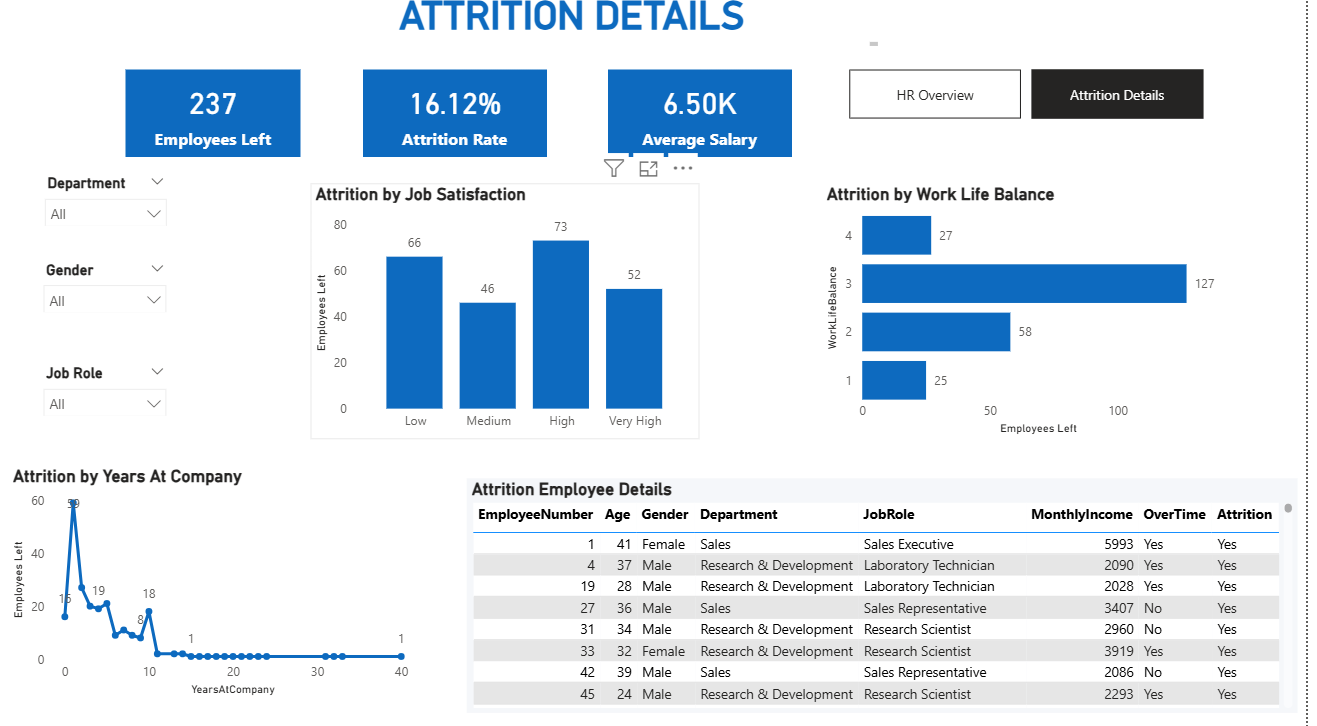

This screenshot's page, from the dashboard's own definition file:
{"tool":"powerbi","page":{"name":"Attrition Details","canvas":[1280,720],"ordinal":1},"visuals":[{"type":"textbox","title":"ATTRITION DETAILS","box":[256.8,0,609,57.5],"z":0},{"type":"card","fields":{"Values":["WA_Fn-UseC_-HR-Employee-Attrition.Employees Left"]},"box":[124.7,75.8,171.2,85.6],"z":1000},{"type":"card","fields":{"Values":["WA_Fn-UseC_-HR-Employee-Attrition.Attrition Rate"]},"box":[356.5,75.8,179.8,85.6],"z":2000},{"type":"card","fields":{"Values":["WA_Fn-UseC_-HR-Employee-Attrition.Average Salary"]},"box":[596.7,75.8,179.8,85.6],"z":3000},{"type":"clusteredColumnChart","title":"Attrition  by Job Satisfaction","fields":{"Y":["WA_Fn-UseC_-HR-Employee-Attrition.Employees Left"],"Category":["WA_Fn-UseC_-HR-Employee-Attrition.Job Satisfaction Label"]},"box":[305.7,187.1,380.3,250.7],"z":4000},{"type":"clusteredBarChart","title":"Attrition  by Work Life  Balance","fields":{"Category":["WA_Fn-UseC_-HR-Employee-Attrition.WorkLifeBalance"],"Y":["WA_Fn-UseC_-HR-Employee-Attrition.Employees Left"]},"box":[805.8,187.1,399.9,250.7],"z":5000},{"type":"lineChart","title":"Attrition by Years At Company","fields":{"Category":["WA_Fn-UseC_-HR-Employee-Attrition.YearsAtCompany"],"Y":["WA_Fn-UseC_-HR-Employee-Attrition.Employees Left"]},"box":[9.8,463.5,399.9,229.9],"z":6000},{"type":"tableEx","title":"Attrition Employee Details","fields":{"Values":["WA_Fn-UseC_-HR-Employee-Attrition.EmployeeNumber","WA_Fn-UseC_-HR-Employee-Attrition.Age","WA_Fn-UseC_-HR-Employee-Attrition.Gender","WA_Fn-UseC_-HR-Employee-Attrition.Department","WA_Fn-UseC_-HR-Employee-Attrition.JobRole","WA_Fn-UseC_-HR-Employee-Attrition.MonthlyIncome","WA_Fn-UseC_-HR-Employee-Attrition.OverTime","WA_Fn-UseC_-HR-Employee-Attrition.Attrition"]},"box":[458.6,475.7,813.2,229.9],"z":7000},{"type":"slicer","fields":{"Values":["WA_Fn-UseC_-HR-Employee-Attrition.Department"]},"box":[35.5,173.6,139.4,55],"z":8000},{"type":"slicer","fields":{"Values":["WA_Fn-UseC_-HR-Employee-Attrition.Gender"]},"box":[34.2,258,140.6,55],"z":9000},{"type":"slicer","fields":{"Values":["WA_Fn-UseC_-HR-Employee-Attrition.JobRole"]},"box":[34.2,359.5,140.6,55],"z":10000},{"type":"pageNavigator","box":[832.7,75.8,346.1,48.9],"z":11000}]}

Visuals, with their boxes in screenshot pixels (x1, y1, x2, y2), scaled from the page's 1280x720 canvas onto the 1317x726 screenshot:
"ATTRITION DETAILS" textbox: x1=264 y1=0 x2=891 y2=58
card - WA_Fn-UseC_-HR-Employee-Attrition.Employees Left: x1=128 y1=76 x2=304 y2=163
card - WA_Fn-UseC_-HR-Employee-Attrition.Attrition Rate: x1=367 y1=76 x2=552 y2=163
card - WA_Fn-UseC_-HR-Employee-Attrition.Average Salary: x1=614 y1=76 x2=799 y2=163
"Attrition  by Job Satisfaction" clusteredColumnChart: x1=315 y1=189 x2=706 y2=441
"Attrition  by Work Life  Balance" clusteredBarChart: x1=829 y1=189 x2=1241 y2=441
"Attrition by Years At Company" lineChart: x1=10 y1=467 x2=422 y2=699
"Attrition Employee Details" tableEx: x1=472 y1=480 x2=1309 y2=711
slicer - WA_Fn-UseC_-HR-Employee-Attrition.Department: x1=37 y1=175 x2=180 y2=231
slicer - WA_Fn-UseC_-HR-Employee-Attrition.Gender: x1=35 y1=260 x2=180 y2=316
slicer - WA_Fn-UseC_-HR-Employee-Attrition.JobRole: x1=35 y1=362 x2=180 y2=418
pageNavigator: x1=857 y1=76 x2=1213 y2=126
